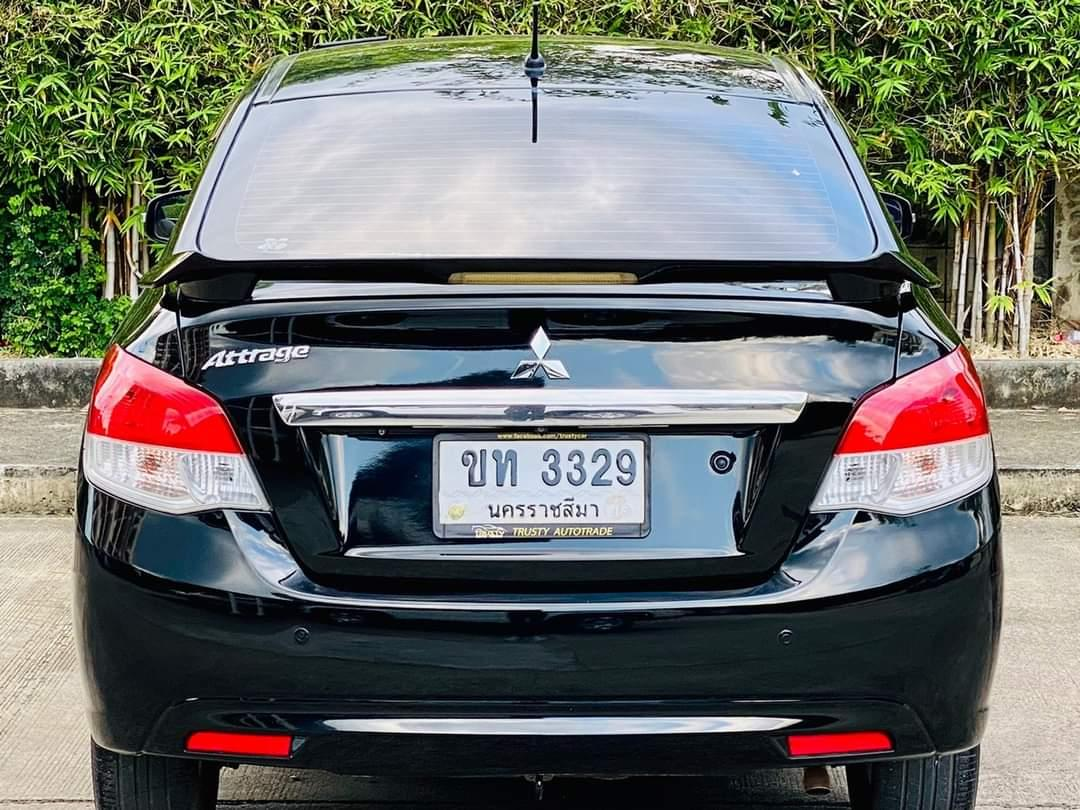license-plate: (432, 430, 651, 539)
